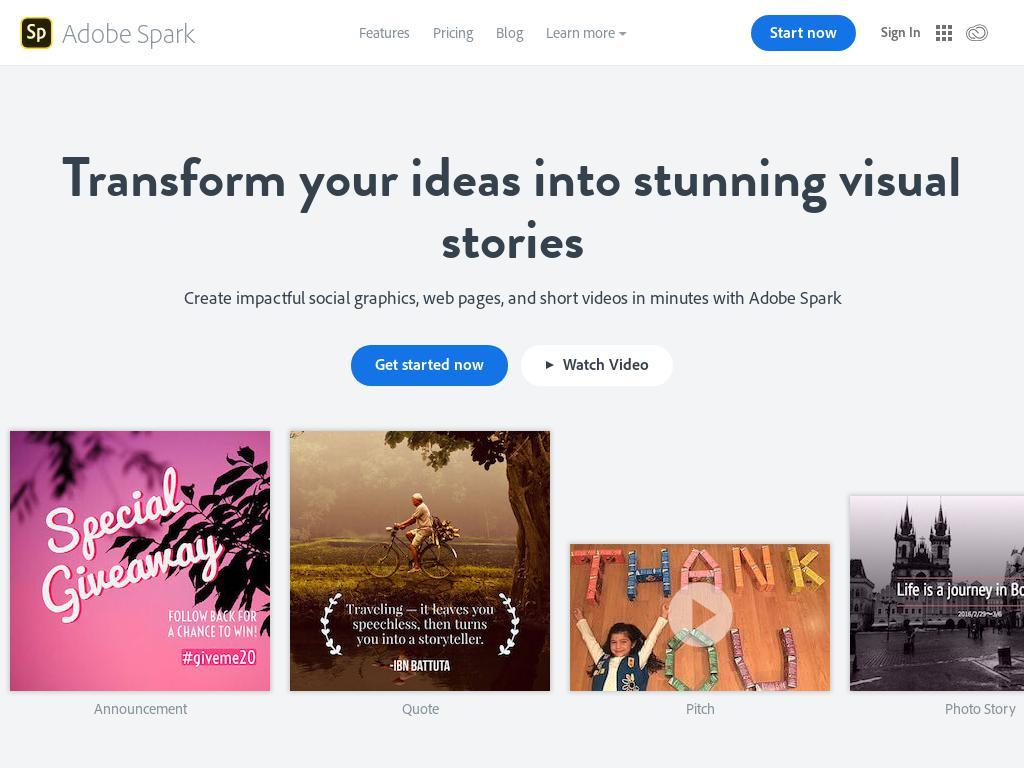button: (351, 345, 508, 386), (521, 345, 673, 386), (750, 15, 856, 51), (0, 766, 1024, 768), (879, 20, 923, 45)
heading: (0, 146, 1024, 270)
image: (10, 431, 270, 691), (290, 431, 550, 691), (0, 0, 1024, 65), (570, 544, 830, 691), (850, 496, 1024, 691), (667, 581, 733, 647)
link: (10, 701, 270, 716), (290, 701, 550, 716), (570, 701, 830, 716), (850, 701, 1024, 716), (546, 23, 615, 42), (359, 23, 410, 42), (433, 23, 473, 42), (496, 23, 523, 42)
text: (0, 280, 1024, 315), (62, 16, 195, 50)
